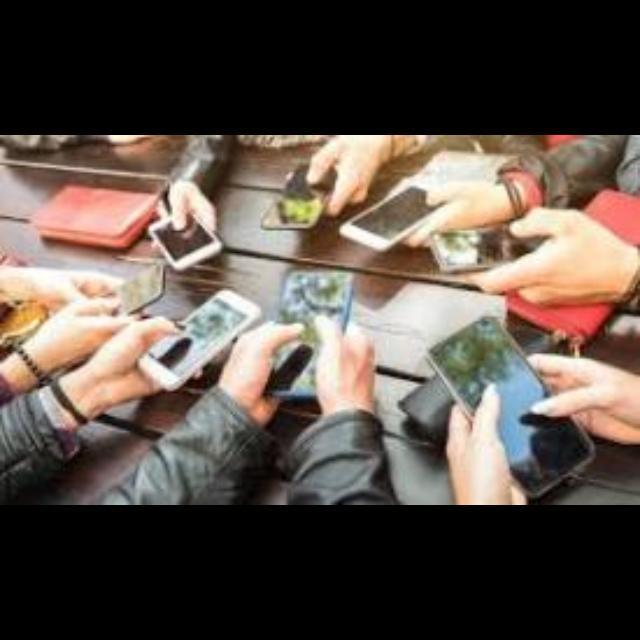PhoneUse: (420, 314, 594, 496), (138, 291, 262, 393), (260, 268, 354, 398), (338, 182, 448, 250), (264, 162, 336, 230), (432, 228, 546, 270), (149, 210, 223, 270), (108, 266, 166, 316)
